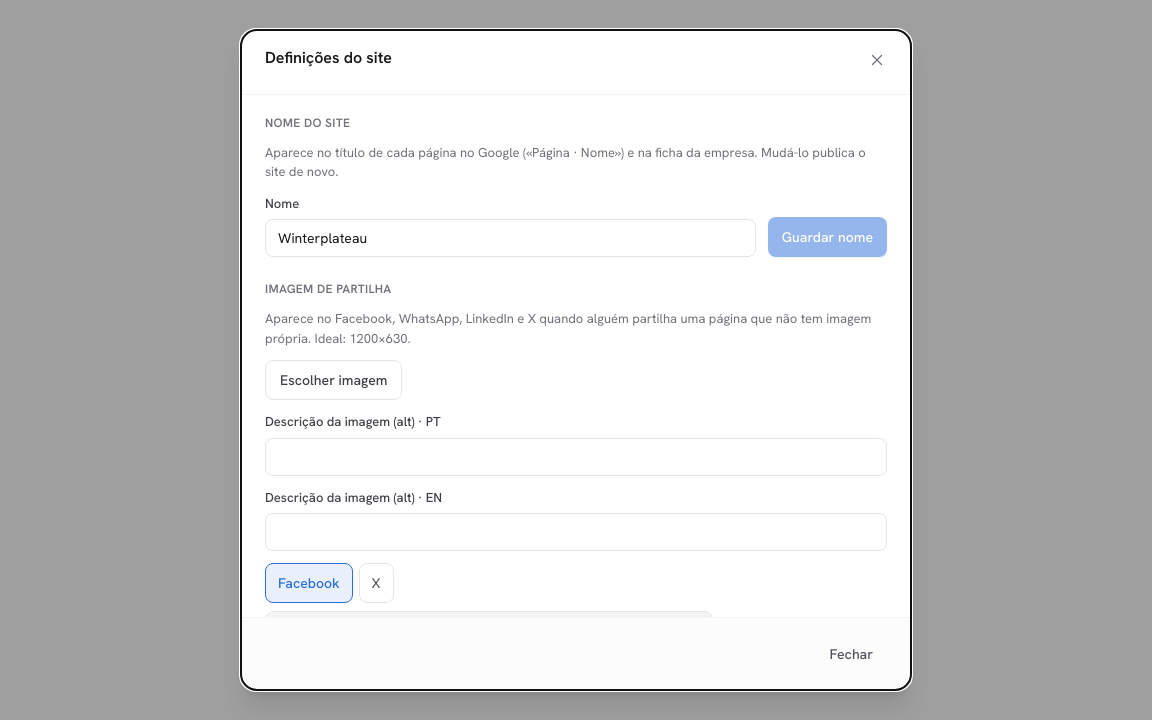
Test case: Definições do site — imagem de partilha › com alterações por guardar nas páginas não deixa gravar
The width and height of the screenshot is (1152, 720).
Type "Front" into the field labelled "Descrição da imagem (alt) · EN" at (576, 532), box [265,513,887,551]
(page scrolled)
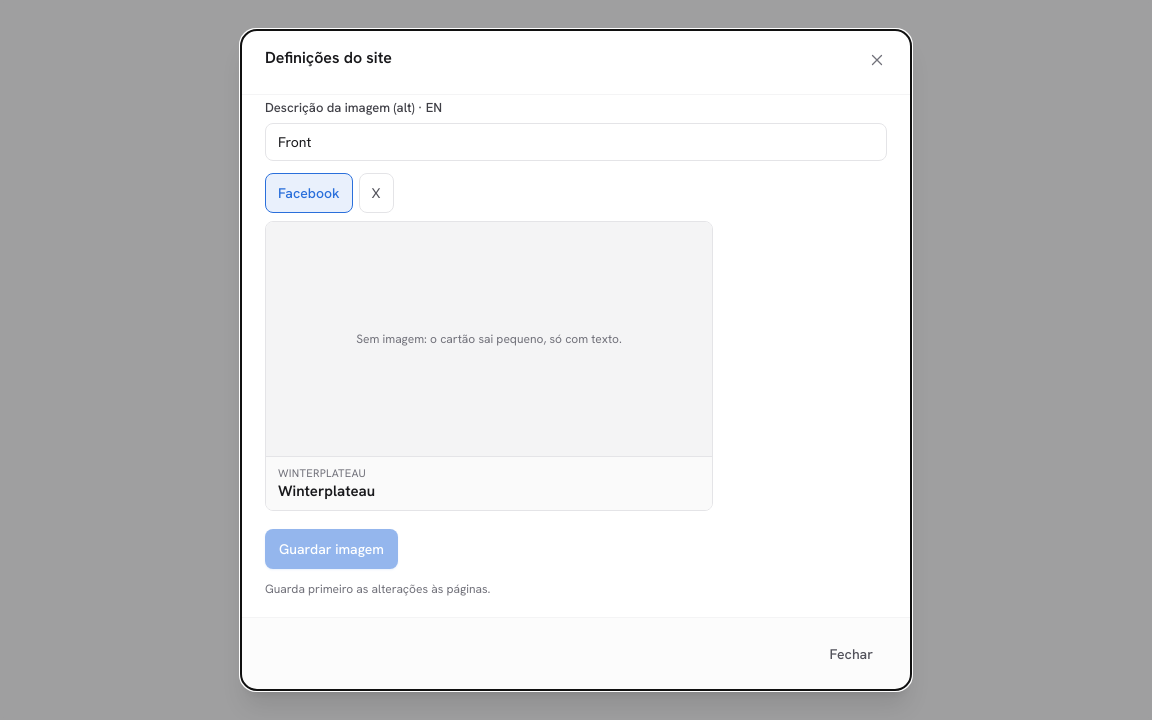
Expected: the button with test id "share-image-save" is disabled, [265,529,398,569]
